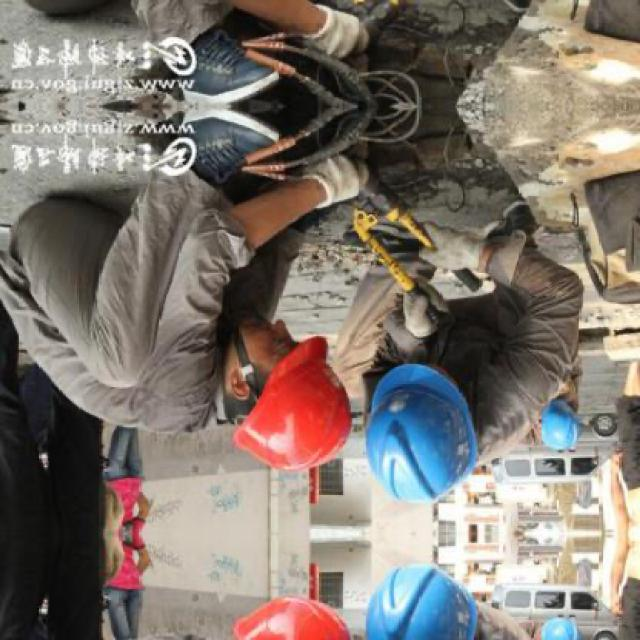con casco: (199, 288, 347, 472), (364, 368, 516, 502)
